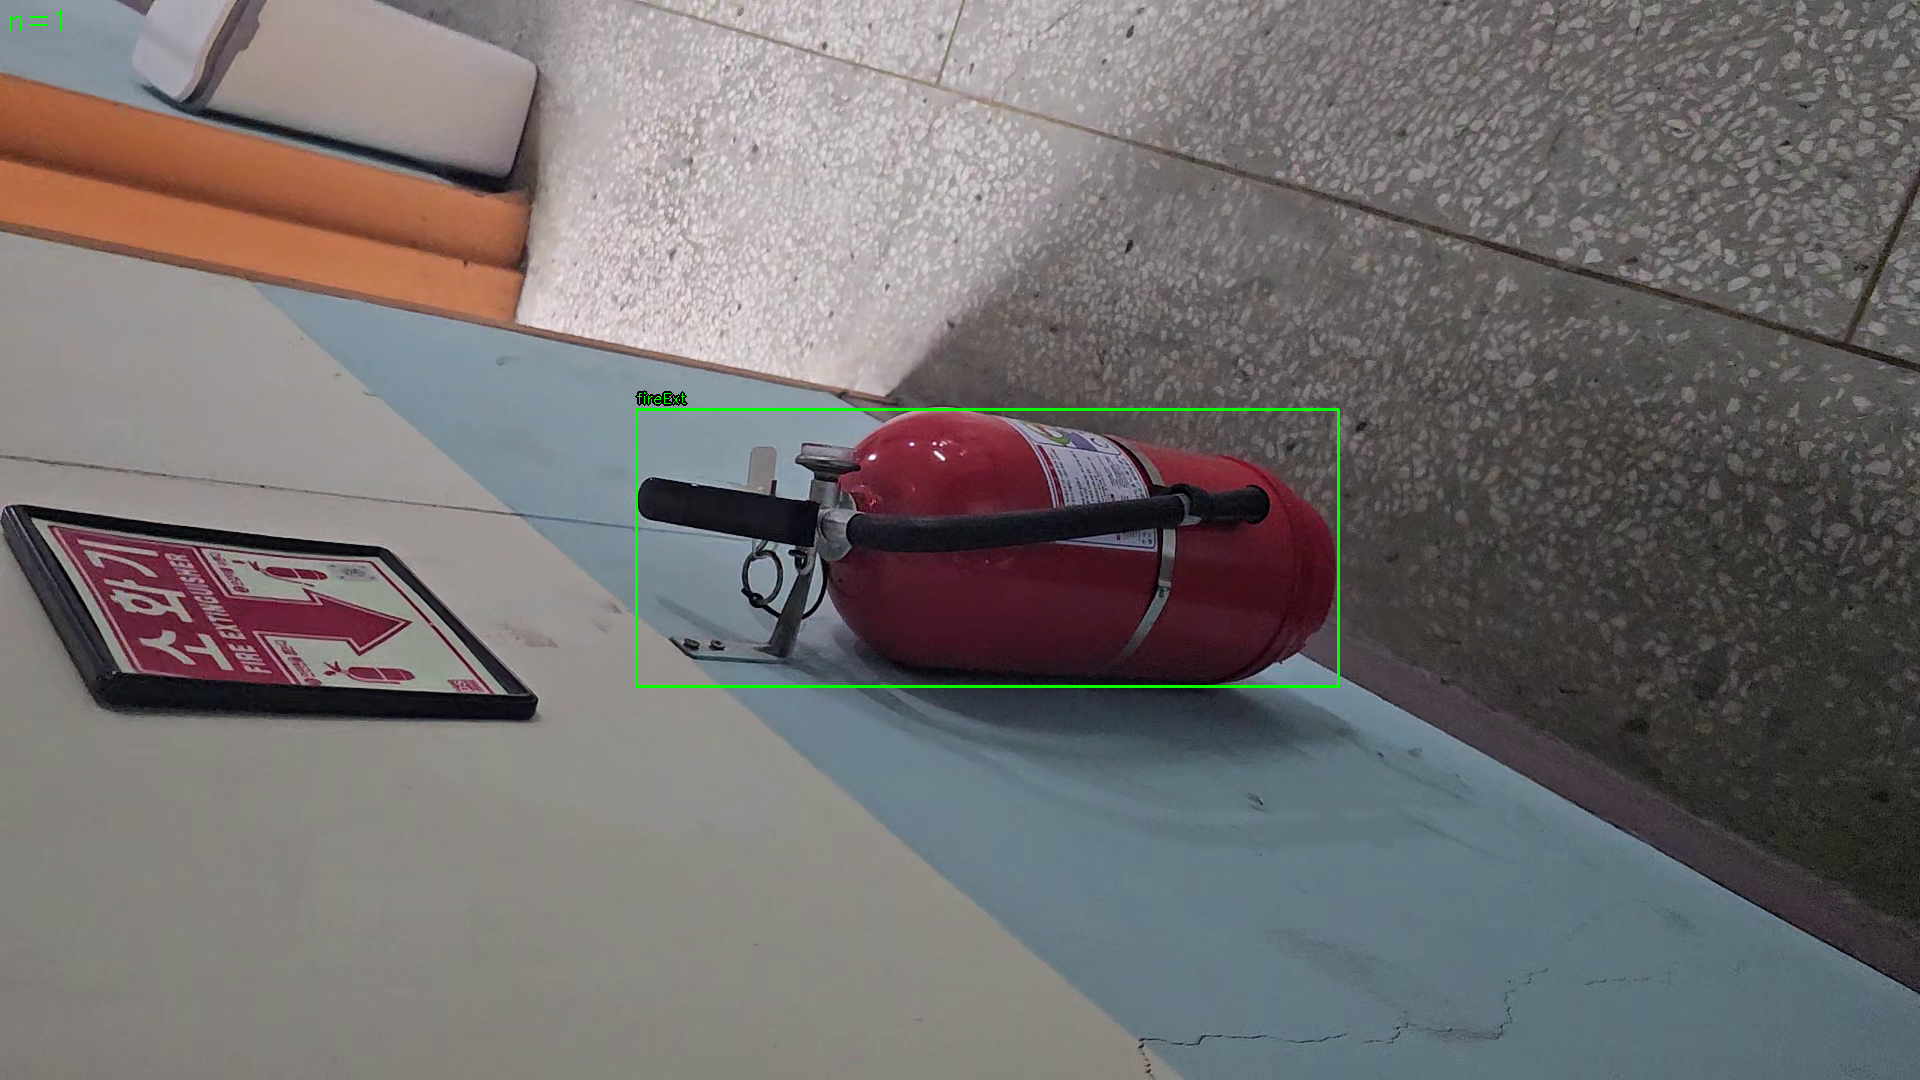lane: (636, 409, 1338, 687)
